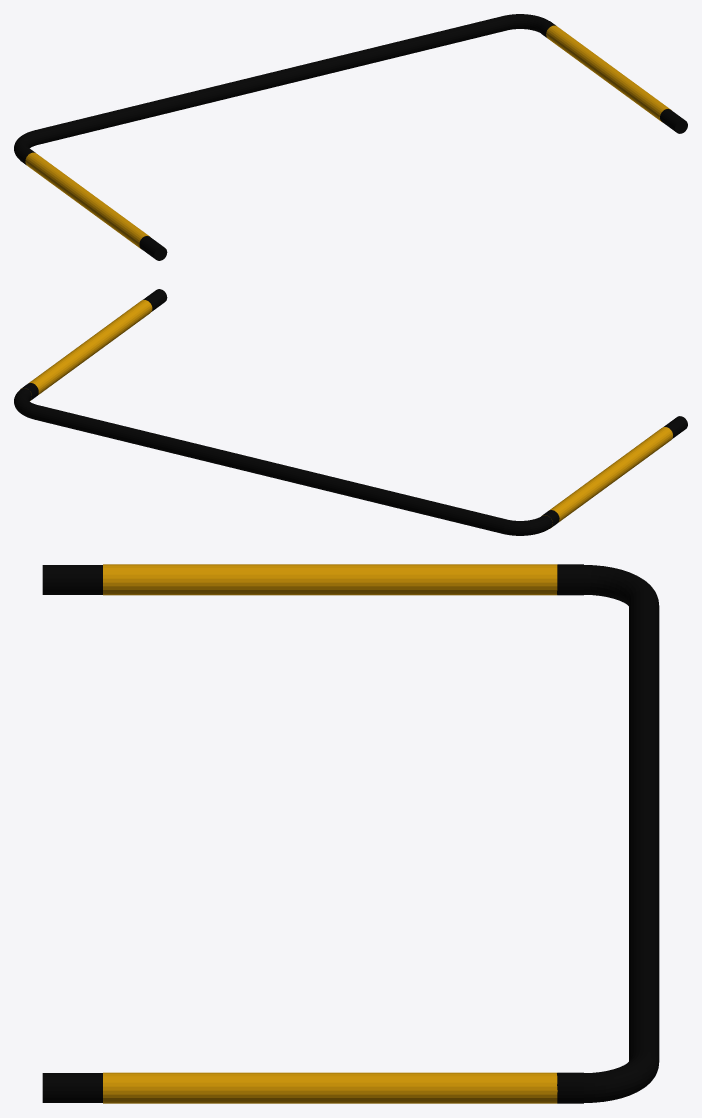
The model's file is GateColor.dae.
The picture shows the model from 3 angles, top to bottom: view 1: azimuth 30°, elevation 25°; view 2: azimuth 150°, elevation 25°; view 3: azimuth 270°, elevation 25°; orthographic projection. The views are drawn at different scales.
Visible parts, largest first — view 1: GATE; view 2: GATE; view 3: GATE.
Boxes of the visible parts, <box> form: GATE: <box>14,14,687,260</box>; GATE: <box>14,289,687,535</box>; GATE: <box>42,564,659,1103</box>.
Bounding box in the file's own units: 313 × 156 × 7.87.
